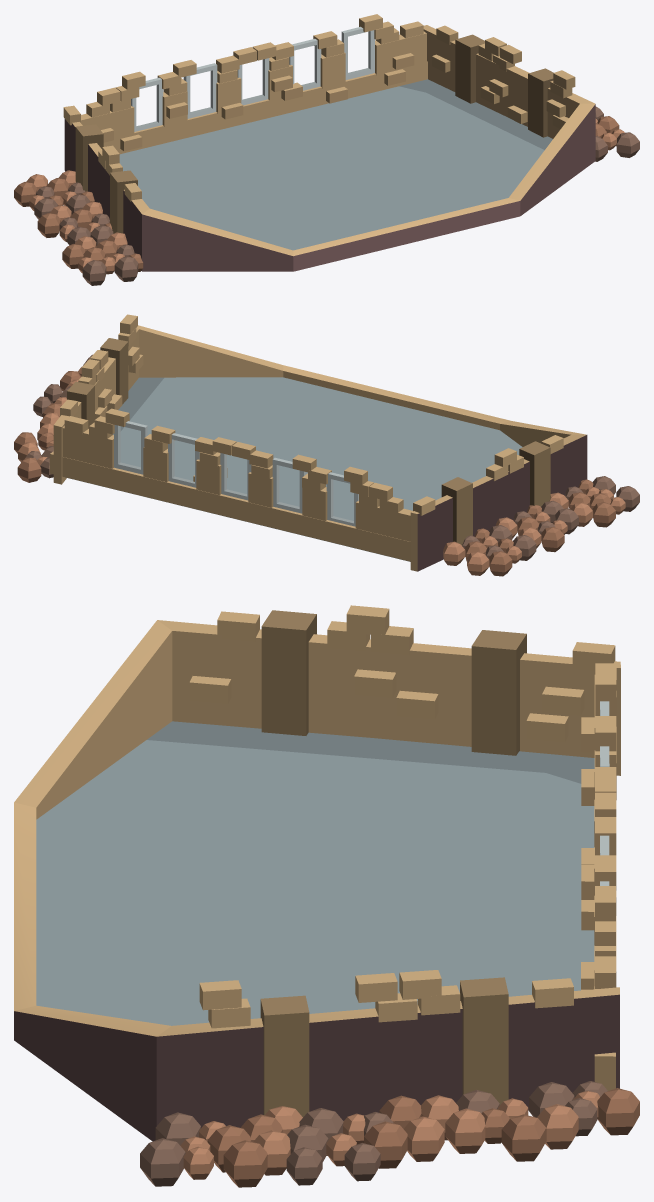
3 views of the same model, one above another, from view 1: azimuth 30°, elevation 25°; view 2: azimuth 150°, elevation 25°; view 3: azimuth 270°, elevation 25° (orthographic). The views are drawn at different scales.
Parts seen in each view (by area): view 1: pCylinder1, pPipe1, pCube17, pCube18, pCube28, pCube19, pCube4, pCube1, pCube16, pCube27, pPipe6, pPipe5 (+12 smaller); view 2: pCylinder1, pPipe1, pCube17, pCube16, pCube28, pCube1, pCube4, pCube19, pCube27, pPipe5, pPipe6, pCube18 (+15 smaller); view 3: pCylinder1, pPipe1, pCube4, pCube1, pCube18, pCube19, pSphere40, pSphere38, pSphere49, pSphere64, pSphere65, pSphere45 (+31 smaller).
Part boxes in pixels (x1,y1,x2,y2): pCylinder1: (119, 79, 552, 250); pPipe1: (64, 25, 595, 271); pCube17: (103, 61, 427, 154); pCube18: (455, 34, 484, 103); pCube28: (375, 31, 426, 75); pCube19: (528, 68, 553, 137); pCube4: (75, 124, 103, 191); pCube1: (110, 170, 137, 233); pCube16: (81, 106, 134, 138); pCube27: (320, 52, 345, 88); pPipe6: (183, 63, 217, 118); pPipe5: (341, 26, 374, 79); pCylinder1: (65, 377, 522, 561); pPipe1: (53, 325, 587, 571); pCube17: (49, 451, 410, 561); pCube16: (355, 501, 412, 541); pCube28: (62, 426, 113, 468); pCube1: (519, 441, 550, 506); pCube4: (441, 477, 472, 545); pCube19: (100, 338, 128, 404); pCube27: (143, 447, 168, 482); pPipe5: (114, 421, 147, 474); pPipe6: (272, 457, 306, 513); pCube18: (67, 381, 94, 428); pCylinder1: (36, 721, 594, 1025); pPipe1: (14, 620, 620, 1141); pCube4: (471, 630, 526, 755); pCube1: (261, 610, 316, 735); pCube18: (460, 977, 508, 1105); pCube19: (260, 995, 309, 1117); pSphere40: (140, 1138, 185, 1186); pSphere38: (223, 1140, 267, 1187); pSphere49: (501, 1114, 545, 1161); pSphere64: (597, 1088, 639, 1135); pSphere65: (445, 1108, 485, 1153); pSphere45: (403, 1116, 444, 1161).
Bounding box in the file's own units: 18.69 × 2.83 × 9.78.
